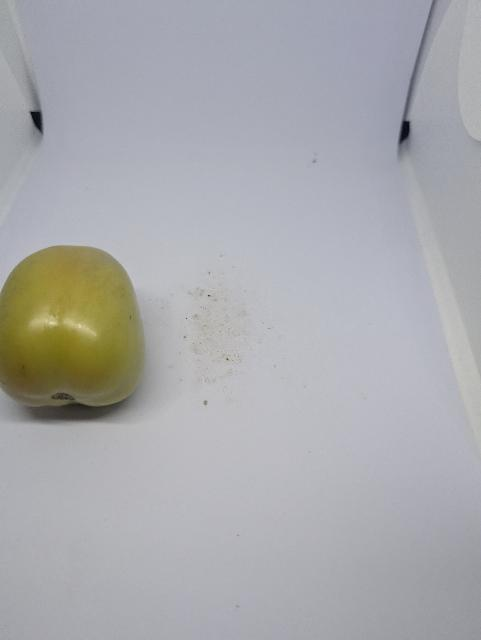breaker: (1, 236, 154, 418)
